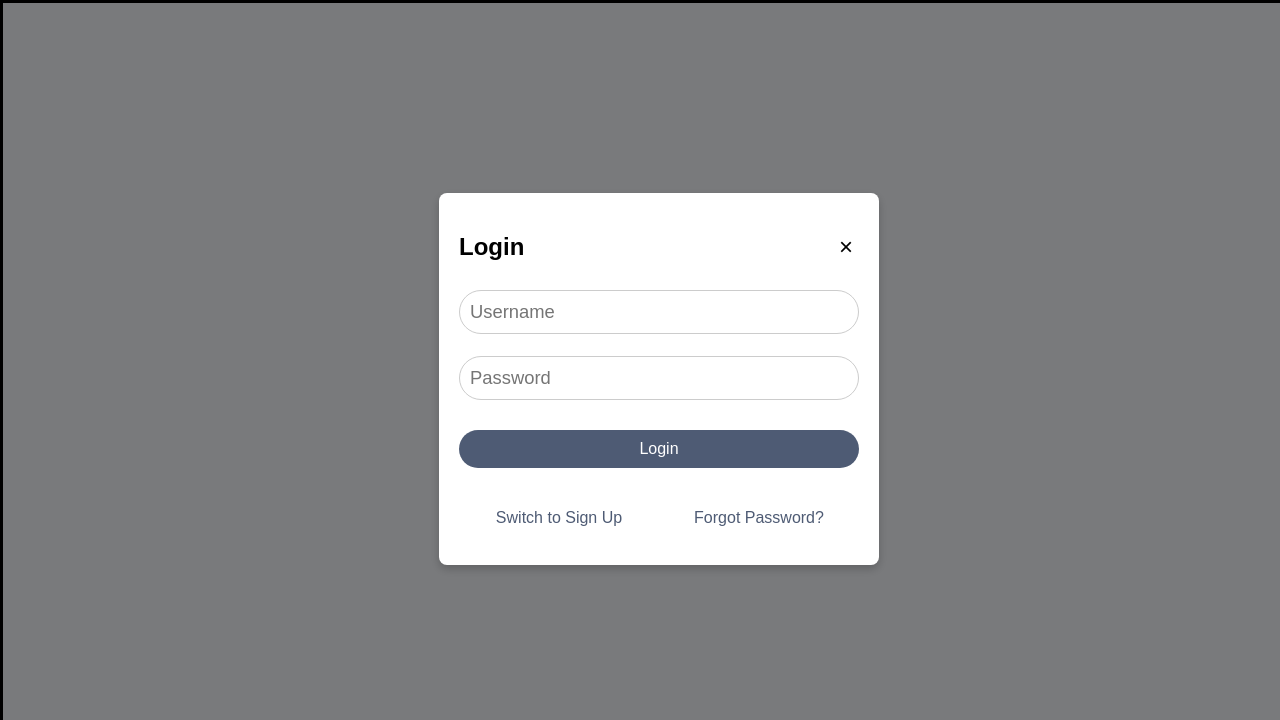
Scenario: LoginModal › switches to signup view
The image size is (1280, 720).
Click the button "Switch to Sign Up" at (559, 518), box [459,499,659,537]
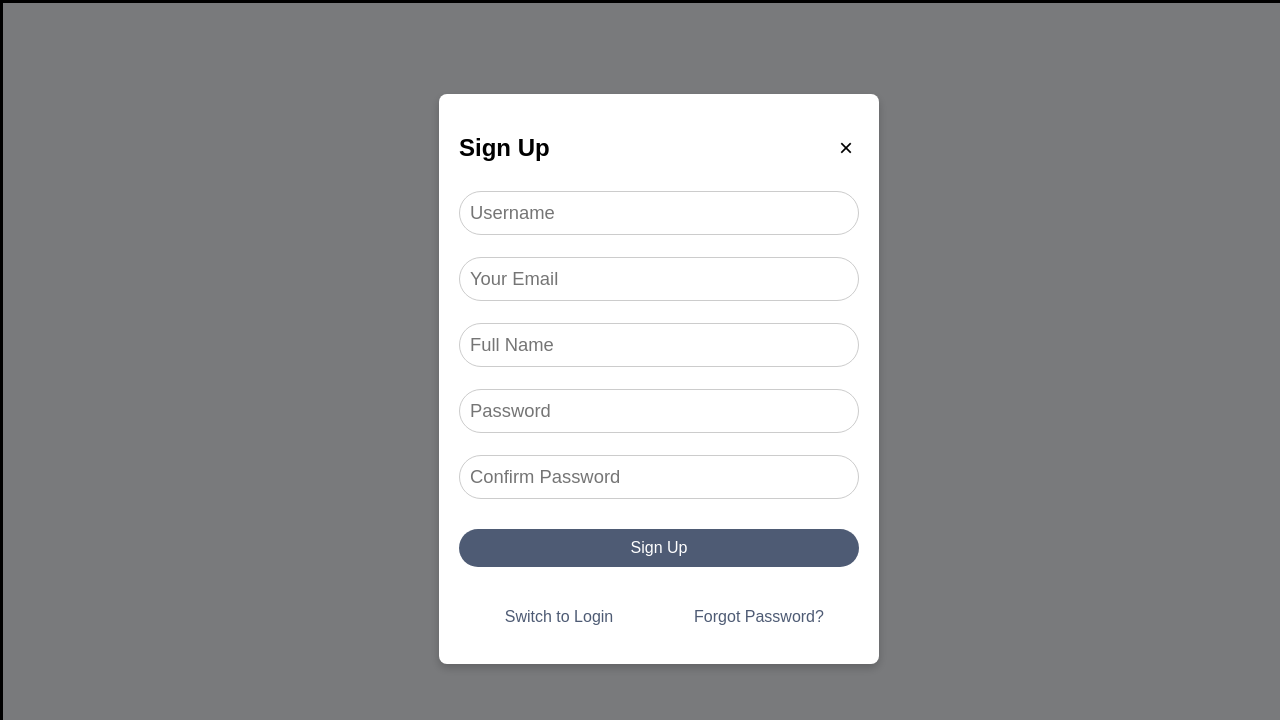
Expected: the heading "Sign Up" is shown, [459,134,550,162]
Expected: the field with placeholder "Your Email" is shown, [459,257,859,301]
Expected: the field with placeholder "Full Name" is shown, [459,323,859,367]
